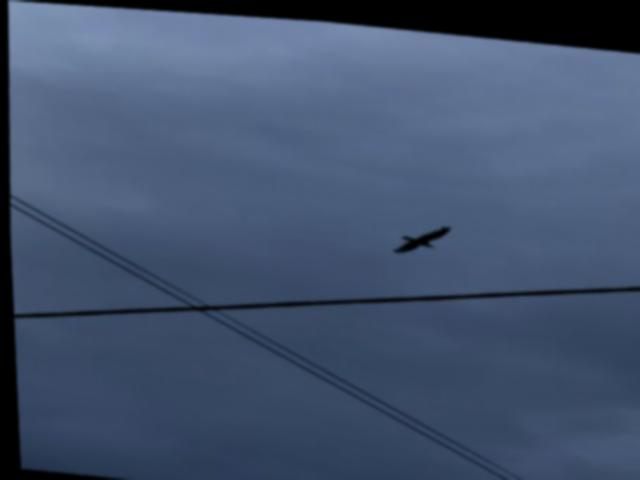bird: (364, 210, 477, 261)
